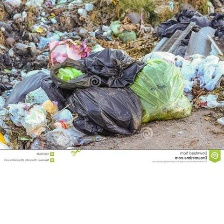plastic_bag: (131, 54, 196, 126), (64, 85, 144, 139), (0, 66, 67, 108), (82, 46, 147, 88), (46, 55, 91, 93)
